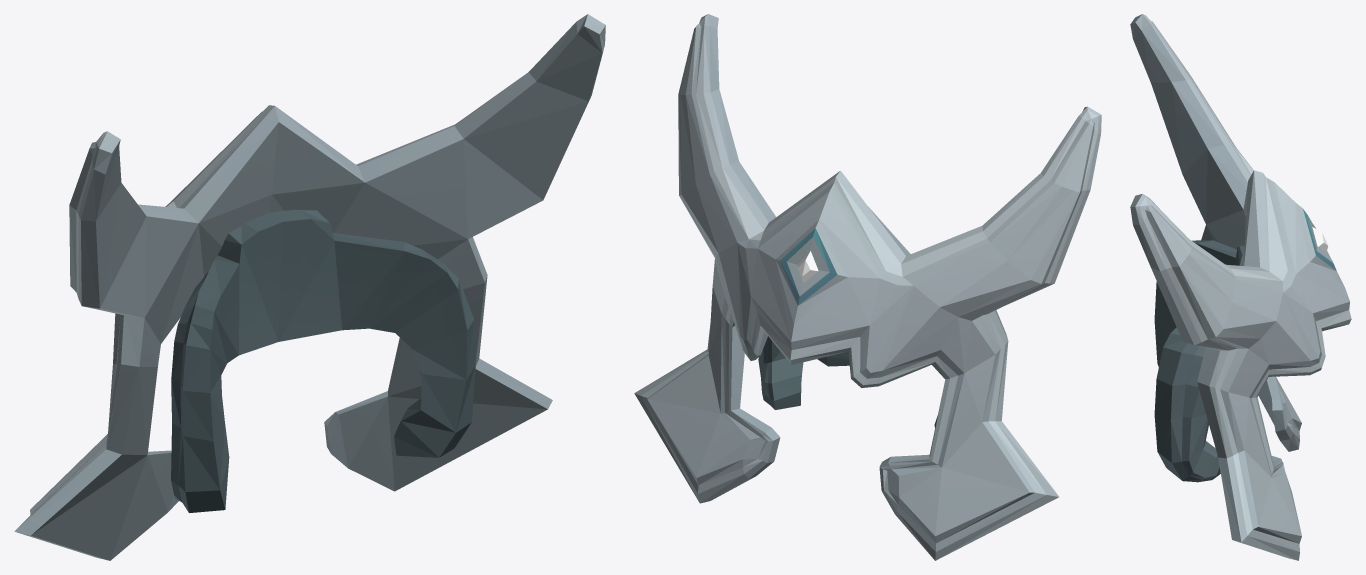
Rendered from CharSkyKid_Mask_ElderSunsetB.glb.
3 renders of one model, left to right at view 1: azimuth 30°, elevation 25°; view 2: azimuth 150°, elevation 25°; view 3: azimuth 270°, elevation 25°, orthographic. The views are drawn at different scales.
Visible parts, largest first — view 1: CharSkyKid_Mask_ElderSunsetB; view 2: CharSkyKid_Mask_ElderSunsetB; view 3: CharSkyKid_Mask_ElderSunsetB.
Part boxes in pixels (left/top/right/bottom): CharSkyKid_Mask_ElderSunsetB: left=14, top=14, right=605, bottom=560; CharSkyKid_Mask_ElderSunsetB: left=634, top=14, right=1101, bottom=560; CharSkyKid_Mask_ElderSunsetB: left=1130, top=14, right=1351, bottom=560.
Bounding box in the file's own units: 4.39 × 4.07 × 2.04.
1 material, 1 textured.
